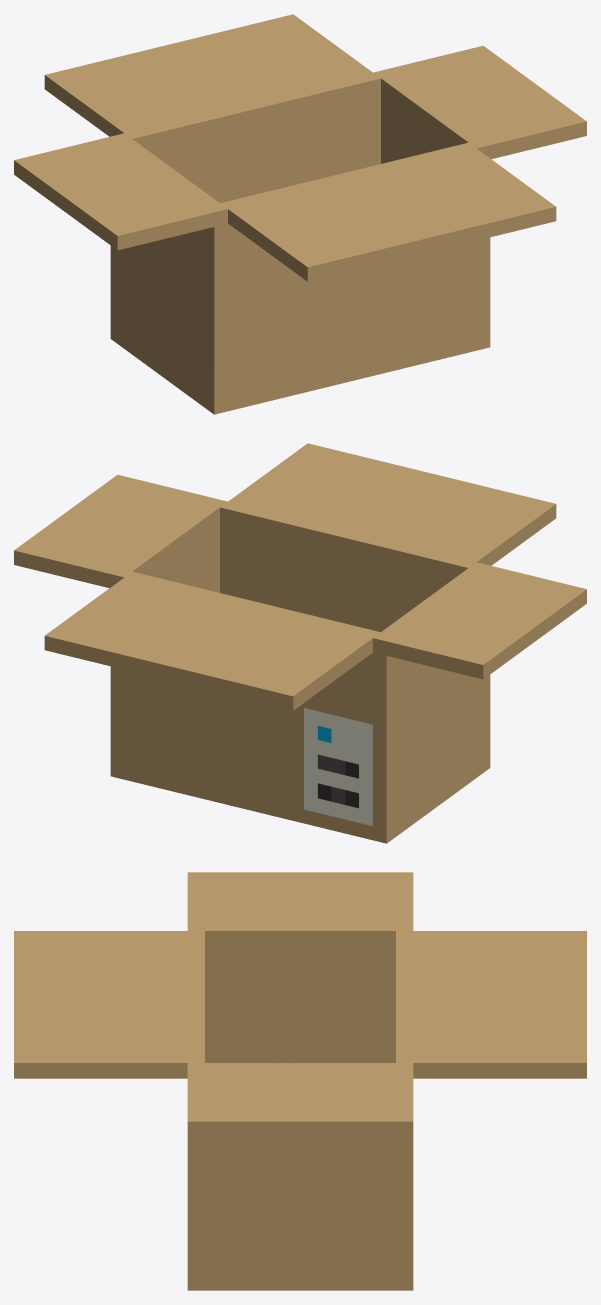
Rendered from IKEA_CajaAbierta.fbx.
3 views of the same model, one above another, from view 1: azimuth 30°, elevation 25°; view 2: azimuth 150°, elevation 25°; view 3: azimuth 270°, elevation 25° (orthographic). The views are drawn at different scales.
Parts seen in each view (by area): view 1: IKEA_CajaAbierta; view 2: IKEA_CajaAbierta; view 3: IKEA_CajaAbierta.
Boxes of the visible parts, x1,y1,x2,y2 form: IKEA_CajaAbierta: (14, 14, 586, 414); IKEA_CajaAbierta: (14, 443, 586, 843); IKEA_CajaAbierta: (14, 872, 586, 1290).
Bounding box in the file's own units: 340 × 330 × 140.
